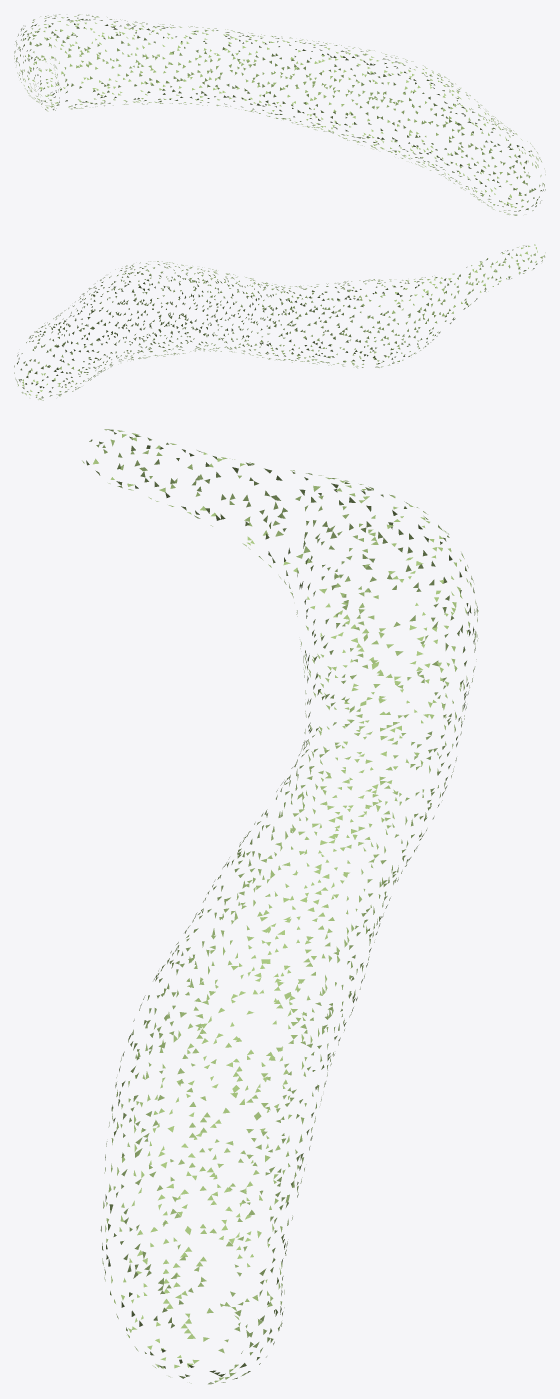
File: morph_012.glb
3 views of the same model, one above another, from view 1: azimuth 30°, elevation 25°; view 2: azimuth 150°, elevation 25°; view 3: azimuth 270°, elevation 25° (orthographic). The views are drawn at different scales.
Bounding box in the file's own units: 115 × 55.5 × 40.19.
